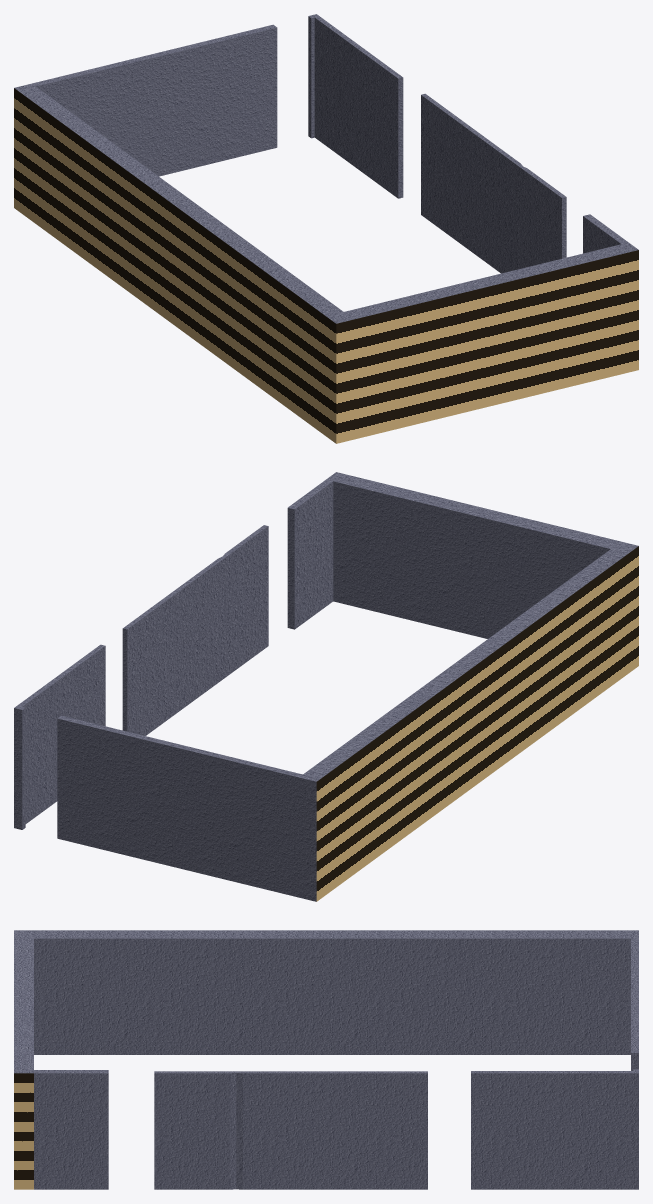
File: piscine_f2.obj
The picture shows the model from 3 angles, top to bottom: view 1: azimuth 30°, elevation 25°; view 2: azimuth 150°, elevation 25°; view 3: azimuth 270°, elevation 25°; orthographic projection. The views are drawn at different scales.
Visible parts, largest first — view 1: Cube_Cube.000; view 2: Cube_Cube.000; view 3: Cube_Cube.000.
Part boxes in pixels (left/top/right/bottom): Cube_Cube.000: left=14, top=14, right=638, bottom=443; Cube_Cube.000: left=14, top=472, right=638, bottom=901; Cube_Cube.000: left=14, top=930, right=638, bottom=1189.
Bounding box in the file's own units: 5.89 × 2.23 × 10.86.
